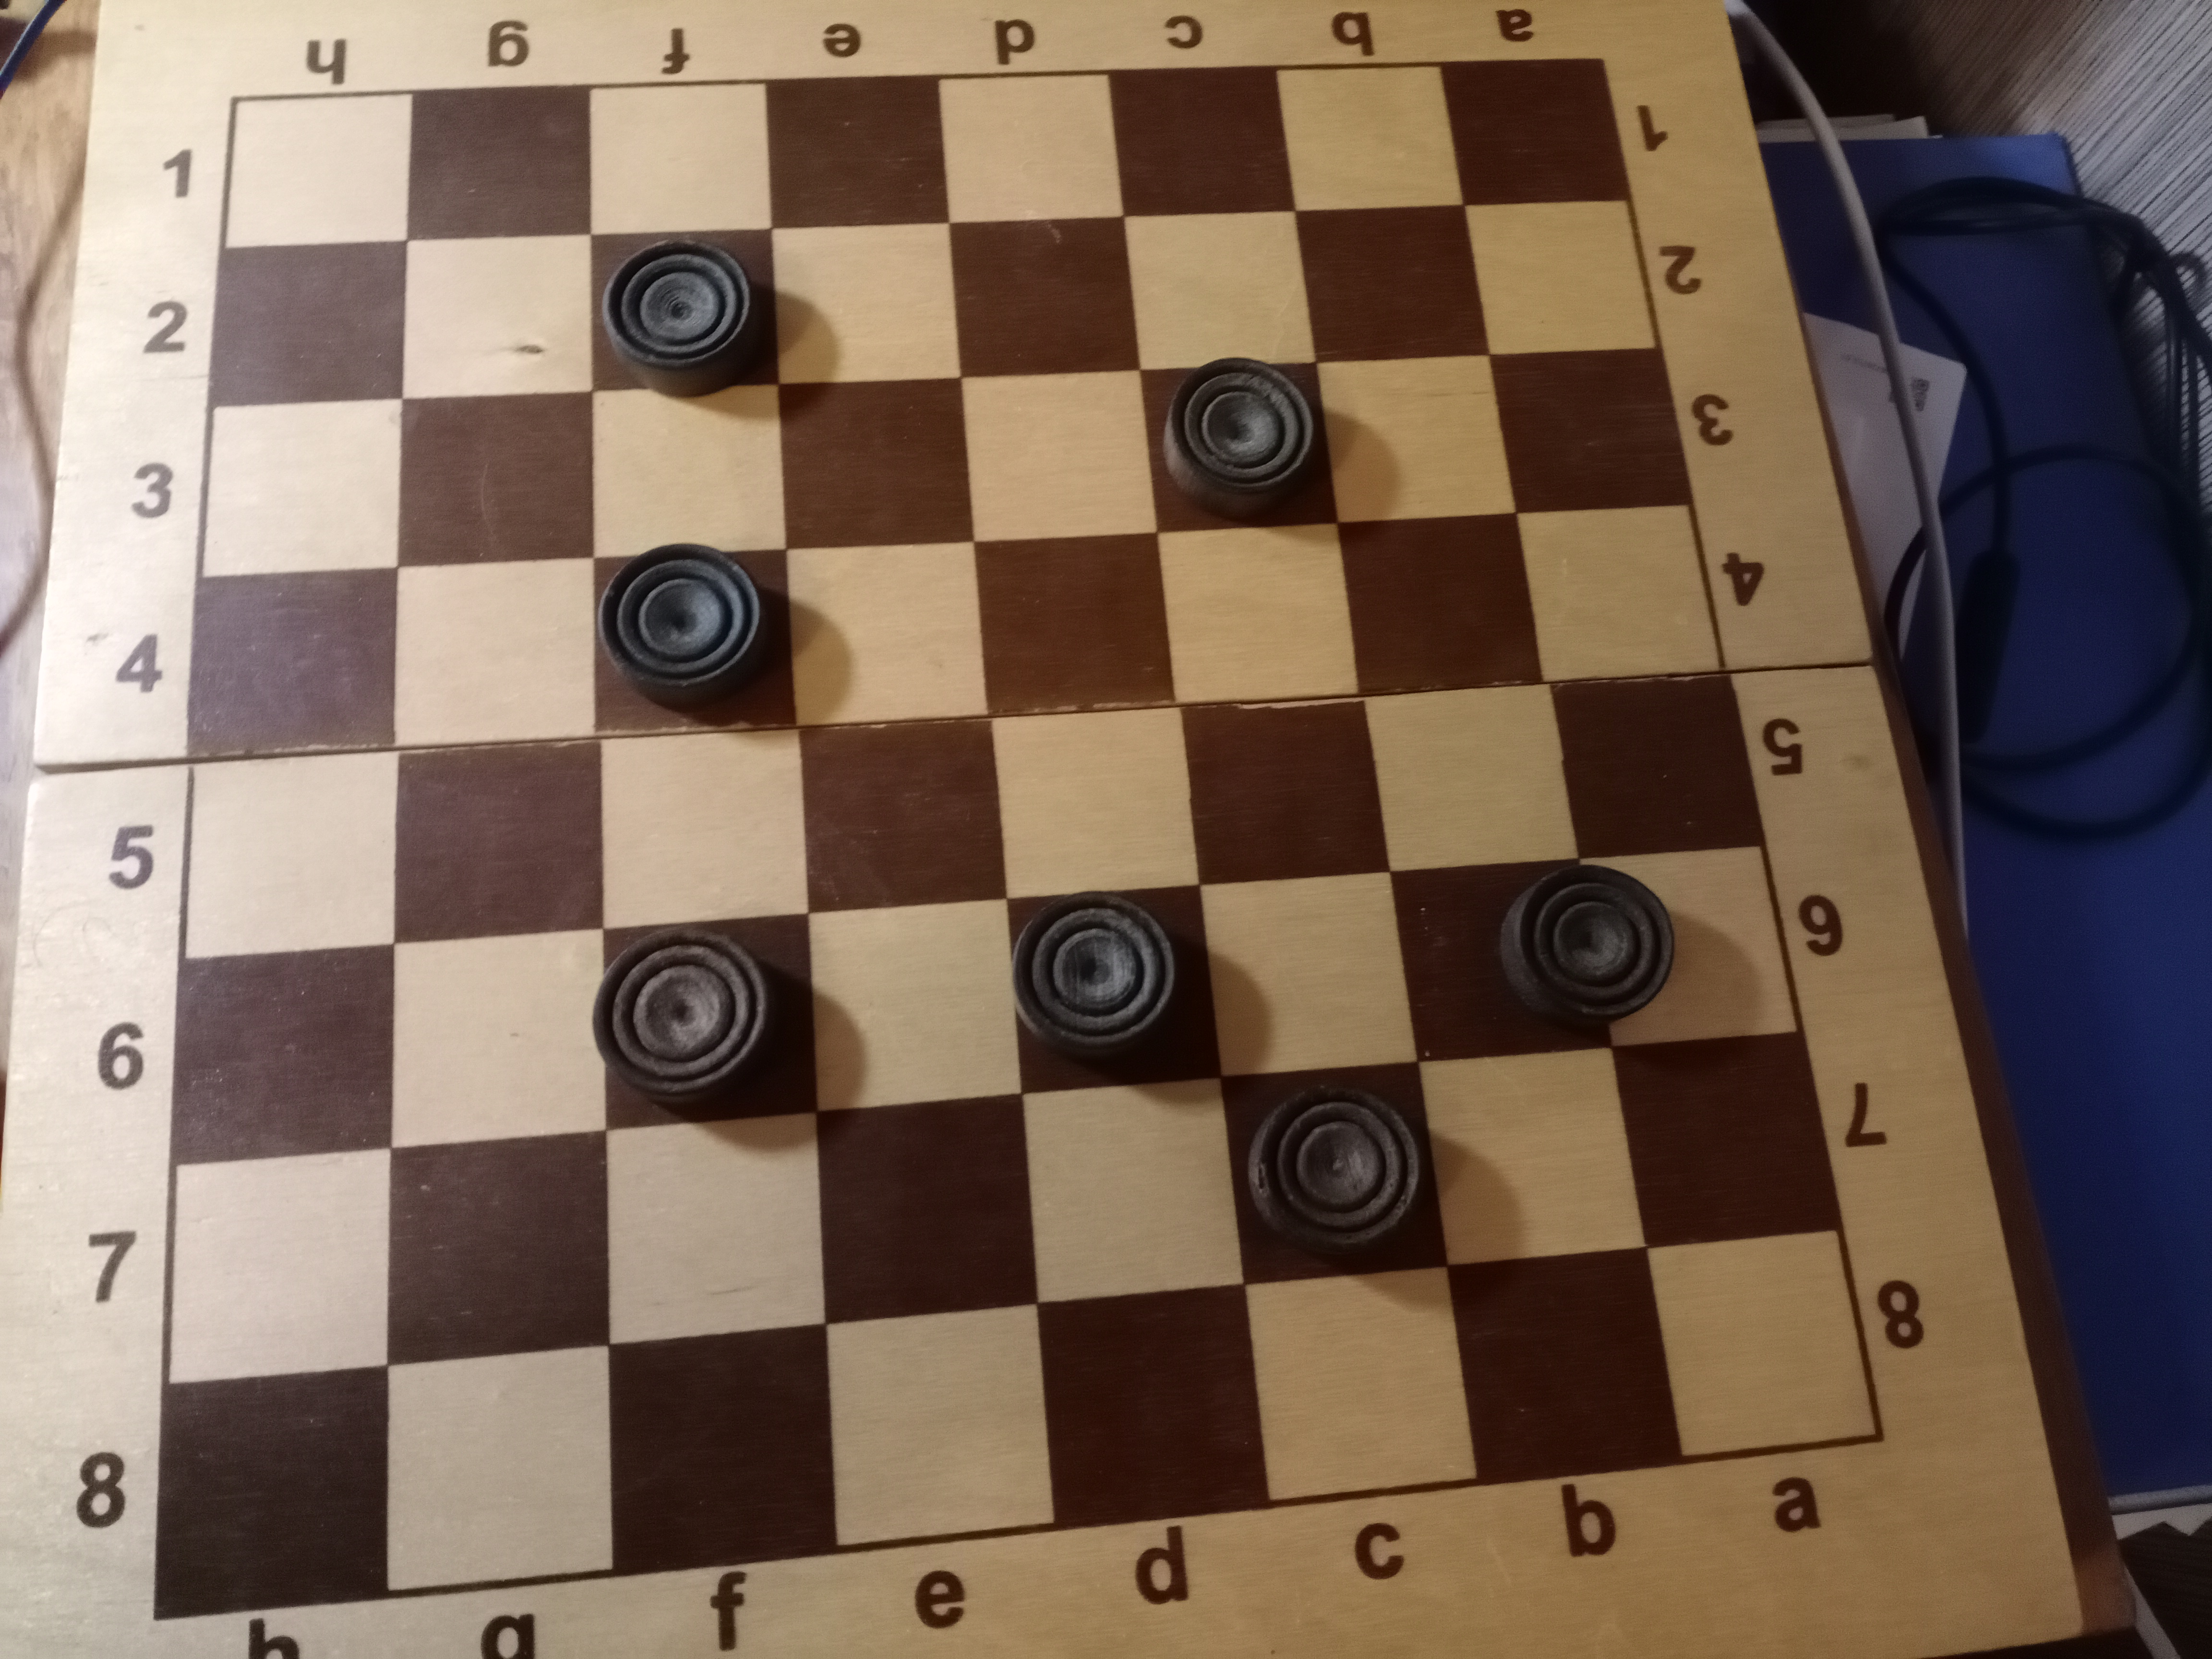Black_Draught: (1390, 859, 1677, 1066), (1221, 1061, 1449, 1284), (590, 913, 822, 1129), (1005, 887, 1221, 1096), (597, 544, 796, 730), (1136, 357, 1339, 533), (587, 230, 782, 399)
